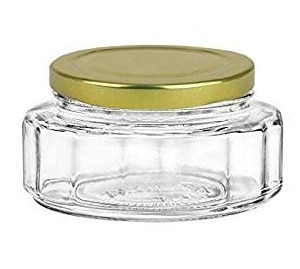Rec_Glass: (8, 40, 288, 226)
